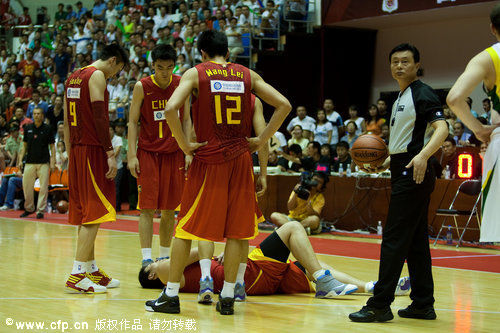10+: (3, 2, 499, 324)
down: (136, 218, 411, 305)
